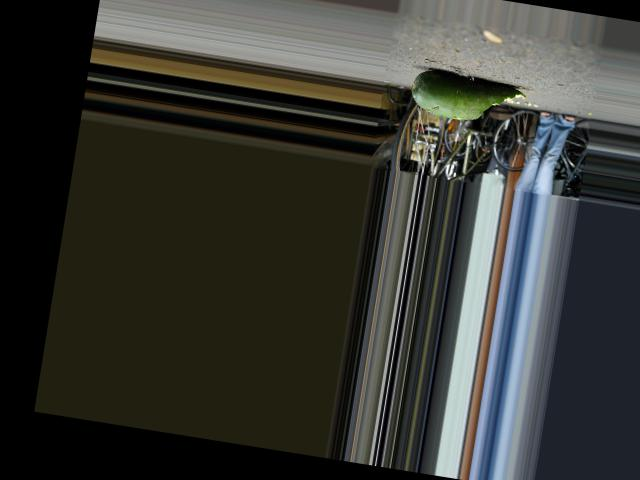cucumber: (408, 67, 529, 129)
